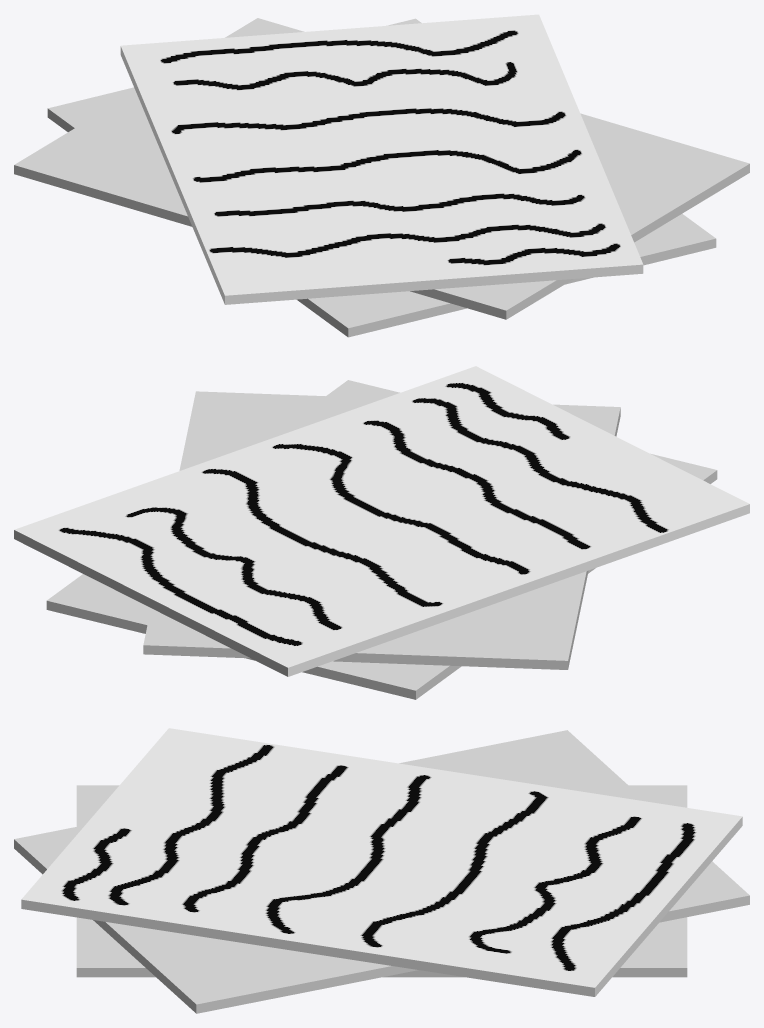
File: Paper.glb
The picture shows the model from 3 angles, top to bottom: view 1: azimuth 30°, elevation 25°; view 2: azimuth 150°, elevation 25°; view 3: azimuth 270°, elevation 25°; orthographic projection.
Visible parts, largest first — view 1: Cube.002, Cube.001, Cube; view 2: Cube.002, Cube.001, Cube; view 3: Cube.002, Cube.001, Cube.
Boxes of the visible parts, <box> form: Cube.002: <box>120,14,643,304</box>; Cube.001: <box>14,18,749,319</box>; Cube: <box>47,18,716,337</box>; Cube.002: <box>14,366,749,676</box>; Cube.001: <box>143,391,620,669</box>; Cube: <box>46,380,717,699</box>; Cube.002: <box>21,728,742,996</box>; Cube.001: <box>14,730,749,1013</box>; Cube: <box>76,785,687,977</box>.
Size of the model in its own units: 0.6317 by 0.03 by 0.7158.
3 materials, 1 textured.
